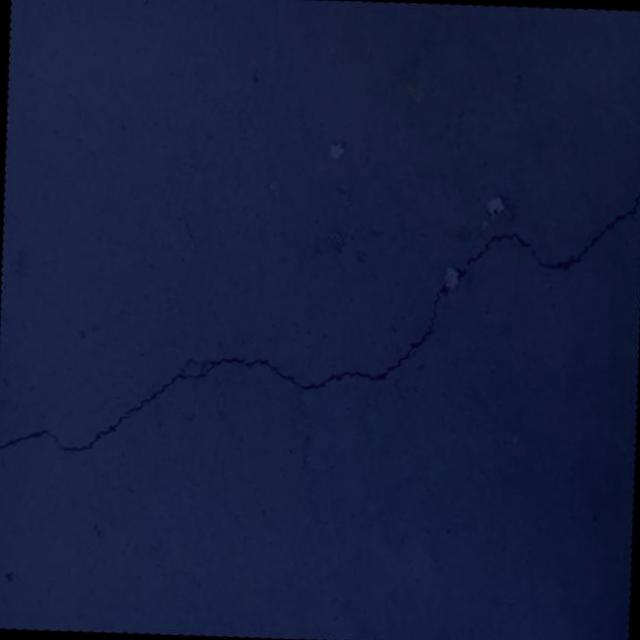crack: (0, 161, 640, 474), (0, 370, 51, 424)
